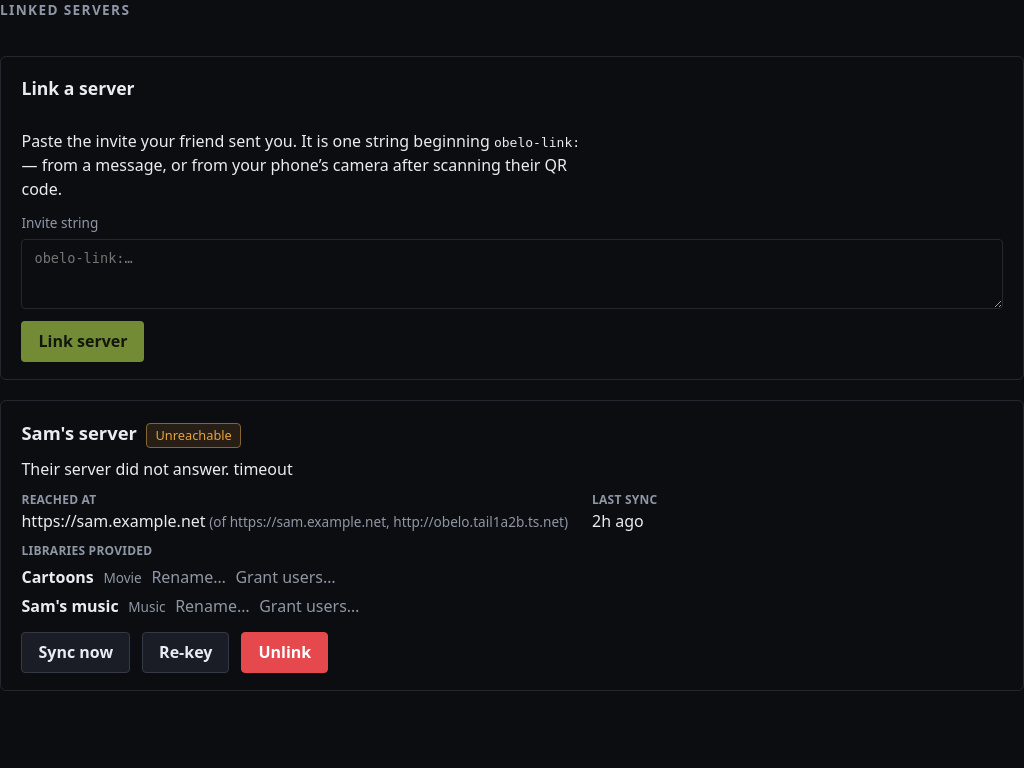
Scenario: AdminLinkedServersScreen — the walkthrough › Sync now sweeps and refetches; a failed sweep reports the reason
Click the button with test id "link-sync".
click(76, 652)  # box [22,632,130,673]
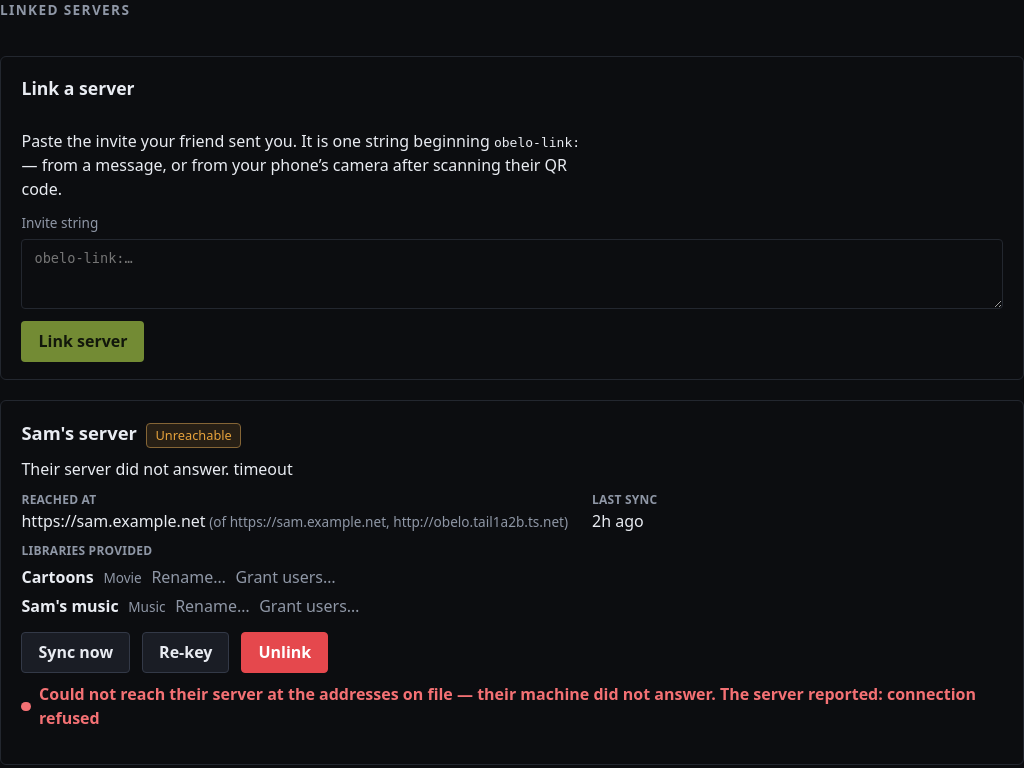
Expected: the message with test id "link-action-error" shows "Could not reach their server", [39,684,976,730]
